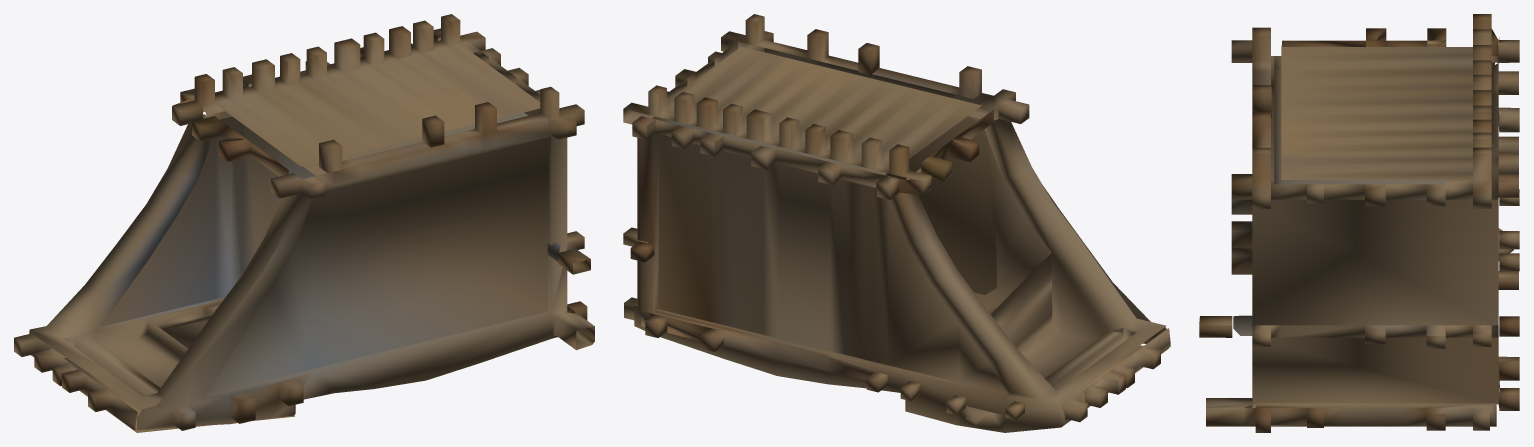
Rendered from building-11.fbx.
3 views of the same model, side by side, from view 1: azimuth 30°, elevation 25°; view 2: azimuth 150°, elevation 25°; view 3: azimuth 270°, elevation 25° (orthographic). The views are drawn at different scales.
Visible parts, largest first — view 1: Adobe_Express_file_Three_dimensional_model_of_a_desert_buil.; view 2: Adobe_Express_file_Three_dimensional_model_of_a_desert_buil.; view 3: Adobe_Express_file_Three_dimensional_model_of_a_desert_buil..
Part boxes in pixels (bbox=[...]): Adobe_Express_file_Three_dimensional_model_of_a_desert_buil.: bbox=[14, 14, 594, 432]; Adobe_Express_file_Three_dimensional_model_of_a_desert_buil.: bbox=[623, 14, 1170, 432]; Adobe_Express_file_Three_dimensional_model_of_a_desert_buil.: bbox=[1199, 14, 1519, 432].
Size of the model in its own units: 3031 by 1614 by 1618.
